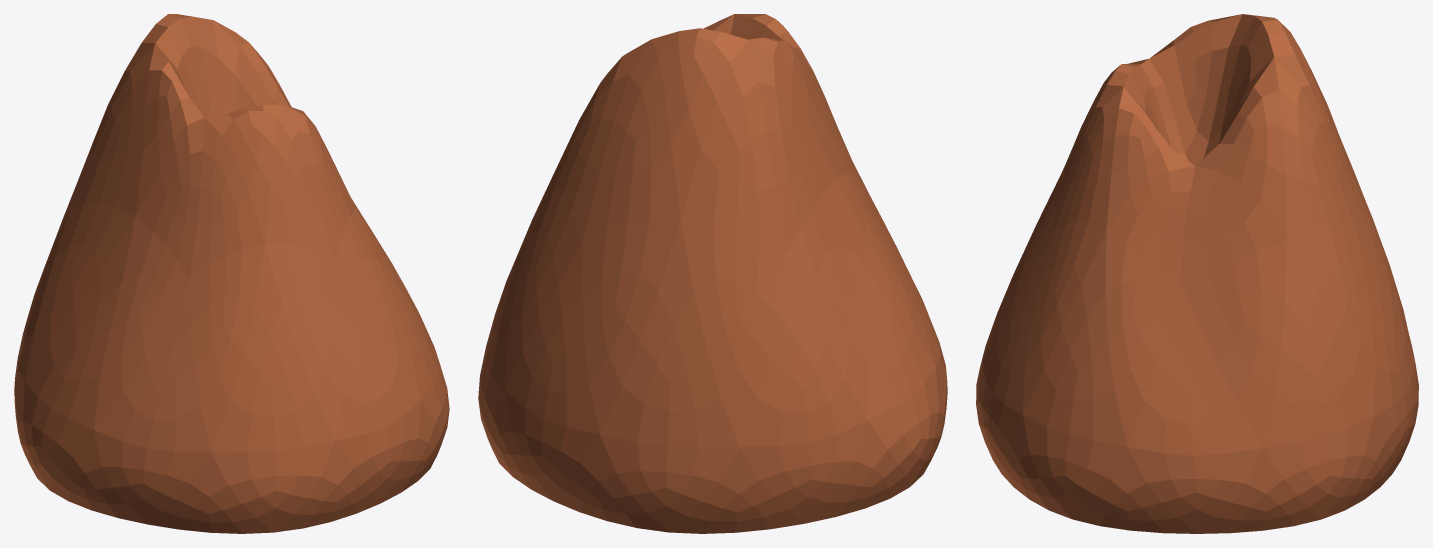
Rendered from Vulcano big 2.fbx.
3 views of the same model, side by side, from view 1: azimuth 30°, elevation 25°; view 2: azimuth 150°, elevation 25°; view 3: azimuth 270°, elevation 25° (orthographic). The views are drawn at different scales.
Visible parts, largest first — view 1: Icosphere.005; view 2: Icosphere.005; view 3: Icosphere.005.
Boxes of the visible parts, box(x1,y1,x2,y2) form: Icosphere.005: box(14, 14, 449, 533); Icosphere.005: box(478, 14, 947, 533); Icosphere.005: box(976, 14, 1418, 533).
Size of the model in its own units: 2877 by 2984 by 2876.
